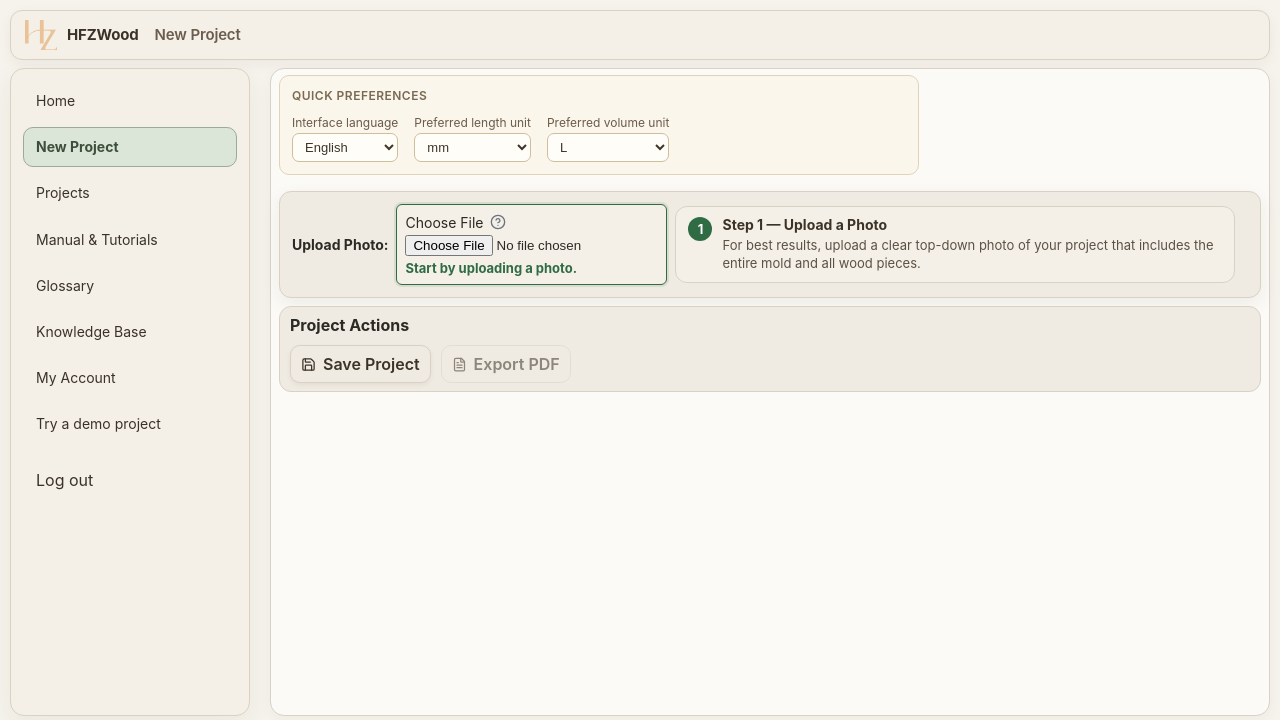
Scenario: Workspace navigation matrix — authenticated › returns to the Home hub from New Project via Home navigation
Click the link "Home": [56, 100] box x1=36 y1=92 x2=75 y2=109
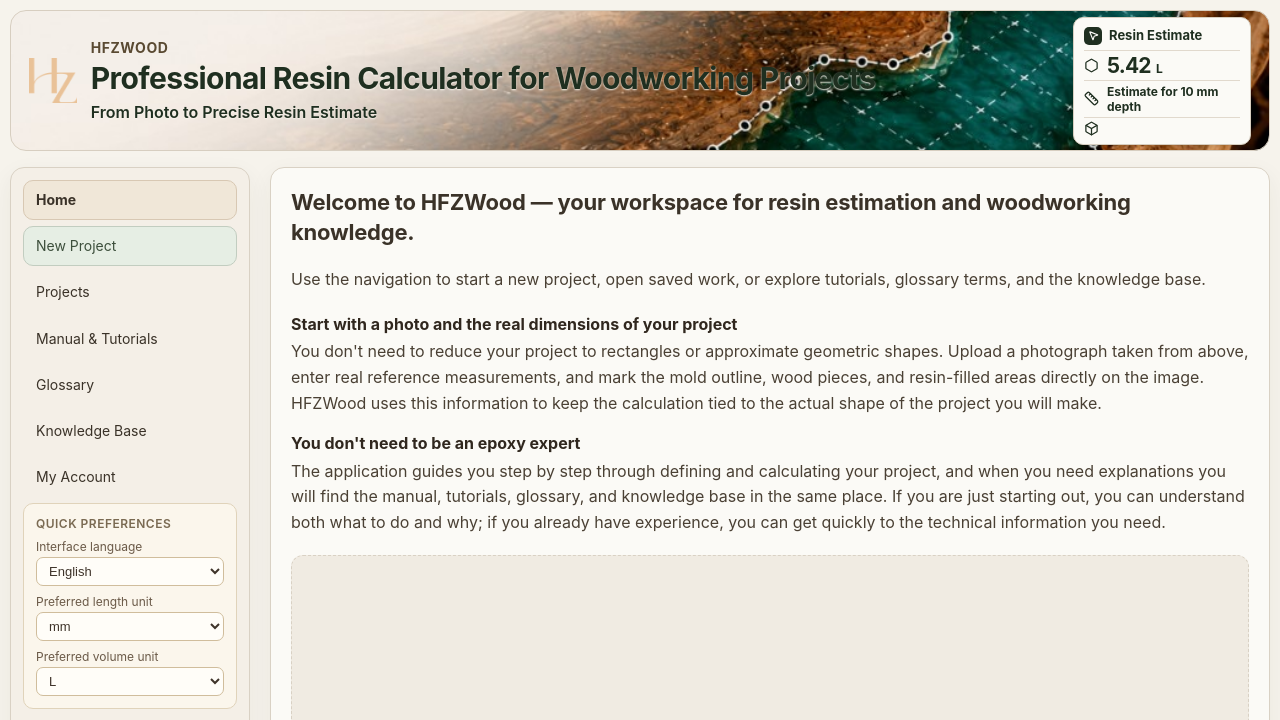
Result: the heading "Welcome to HFZWood — your workspace for resin estimation" is shown at x1=291 y1=189 x2=1131 y2=245
